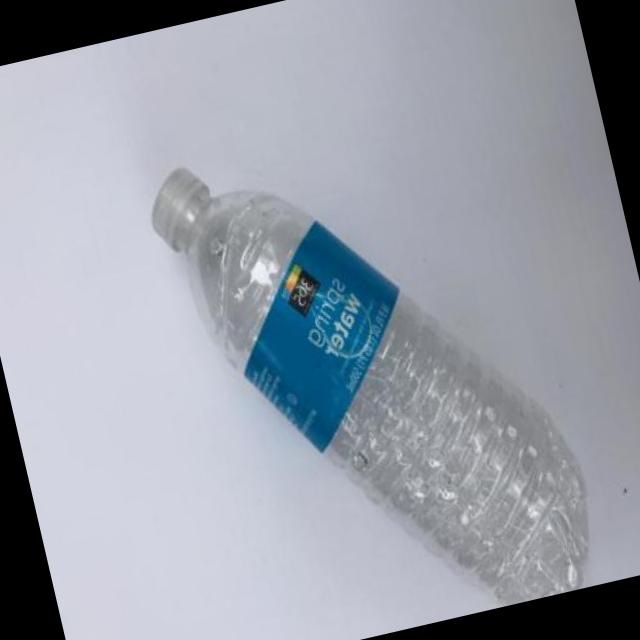plastic_bottle: (140, 94, 608, 640)
